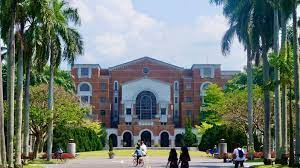human: (226, 143, 262, 168), (132, 139, 151, 168), (179, 146, 197, 168), (165, 147, 177, 168)
